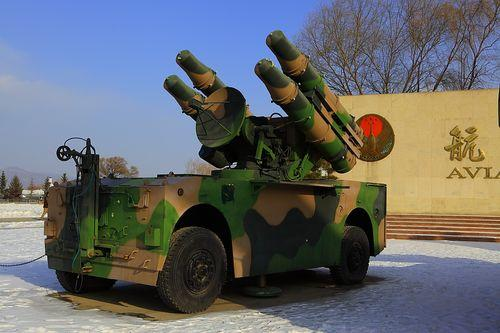MIL_SPG: (44, 30, 394, 312)
